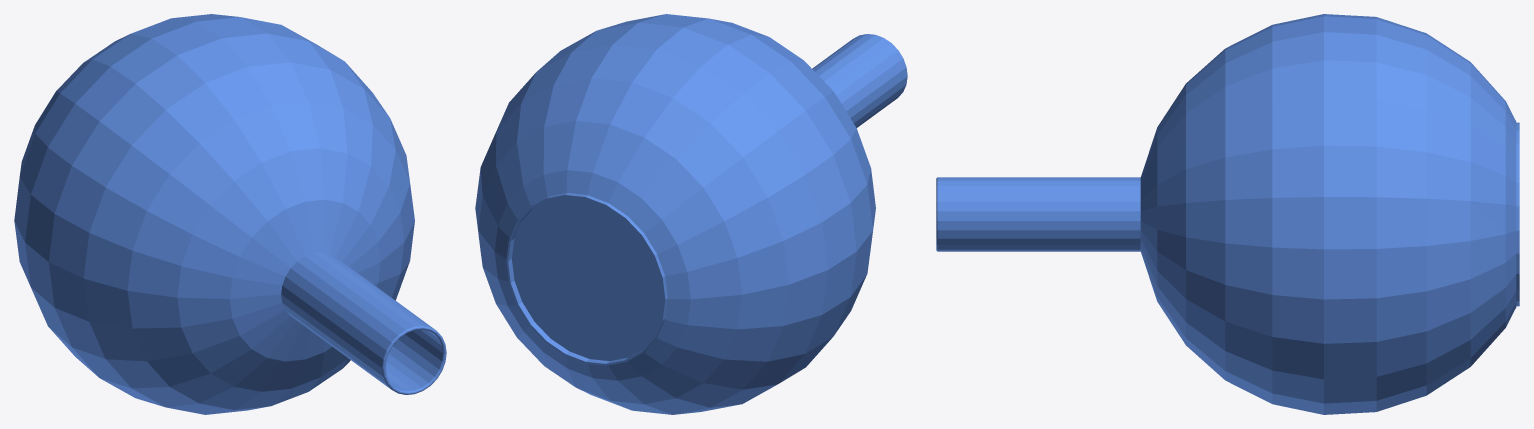
3 renders of one model, left to right at view 1: azimuth 30°, elevation 25°; view 2: azimuth 150°, elevation 25°; view 3: azimuth 270°, elevation 25°, orthographic.
Parts seen in each view (by area): view 1: florence flask; view 2: florence flask; view 3: florence flask.
Boxes of the visible parts, x1,y1,x2,y2 form: florence flask: (14, 14, 446, 414); florence flask: (475, 14, 907, 414); florence flask: (936, 14, 1519, 414).
Bounding box in the file's own units: 32.28 × 32.28 × 46.78.
